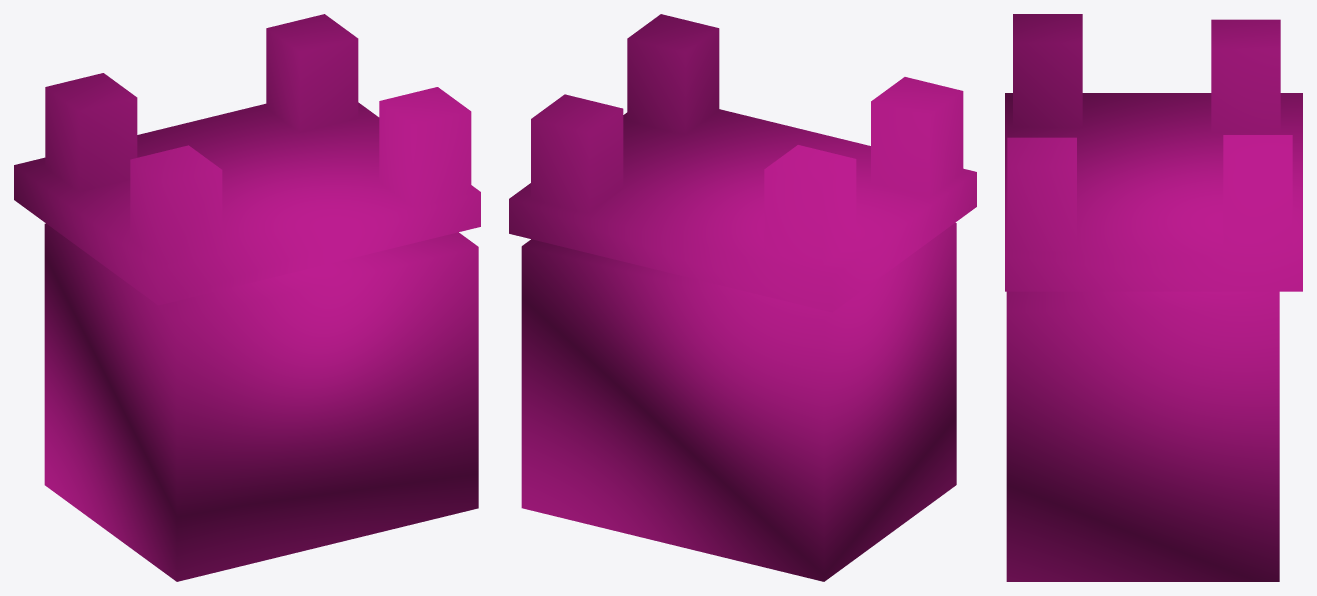
The model's file is ps2_jrpg_fortress_wall_tower_parapet.obj.
3 renders of one model, left to right at view 1: azimuth 30°, elevation 25°; view 2: azimuth 150°, elevation 25°; view 3: azimuth 270°, elevation 25°, orthographic. The views are drawn at different scales.
Bounding box in the file's own units: 1.55 × 1.83 × 1.2.
